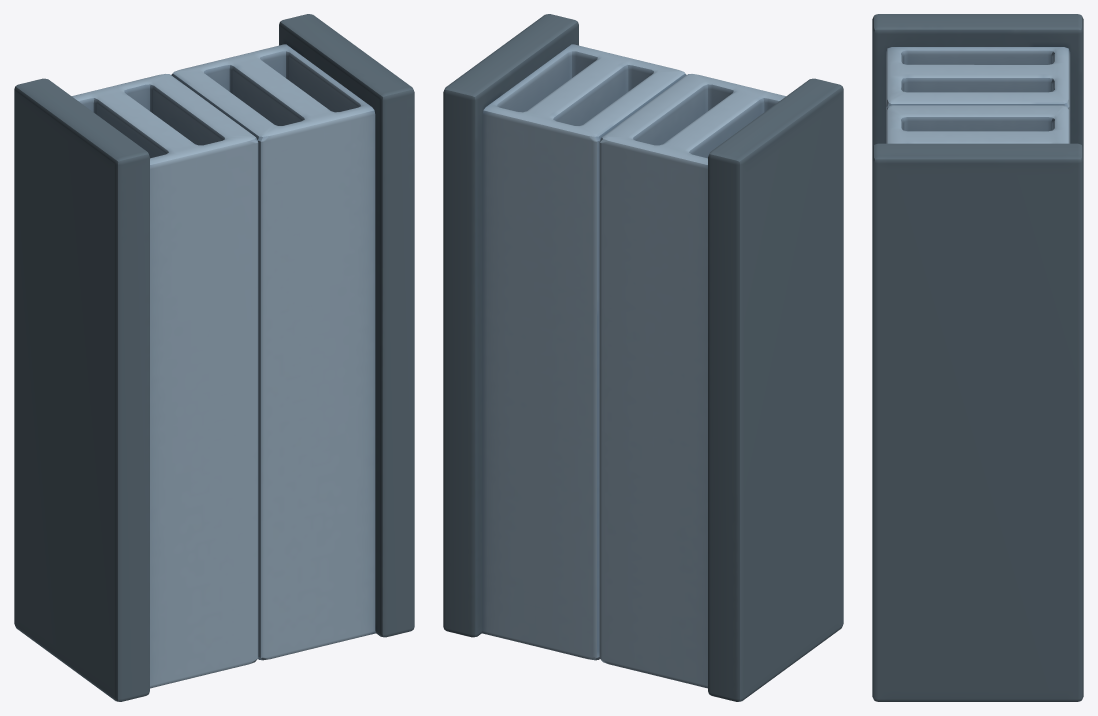
Rendered from Door_Block_1.fbx.
3 views of the same model, side by side, from view 1: azimuth 30°, elevation 25°; view 2: azimuth 150°, elevation 25°; view 3: azimuth 270°, elevation 25° (orthographic).
Visible parts, largest first — view 1: Door_Block_1; view 2: Door_Block_1; view 3: Door_Block_1.
Part boxes in pixels (box(x1,y1,x2,y2)): Door_Block_1: box(14, 14, 414, 701); Door_Block_1: box(443, 14, 843, 701); Door_Block_1: box(872, 14, 1083, 701).
Size of the model in its own units: 1 by 1.74 by 0.6098.
Materials: 1 (1 with a texture image).
